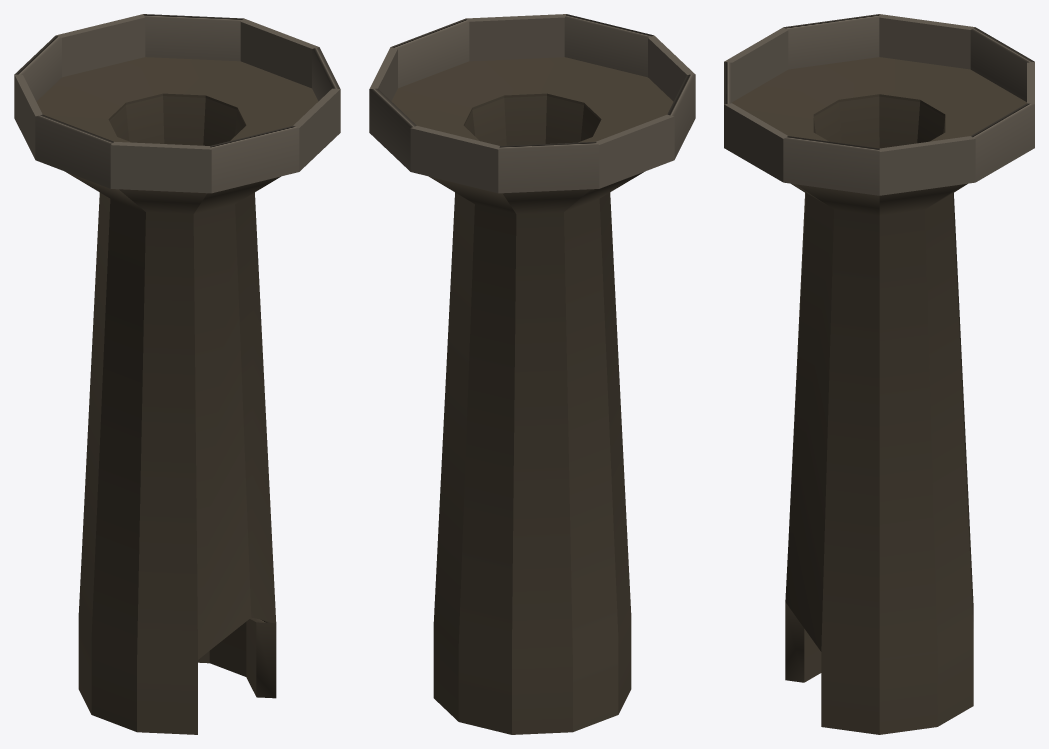
Rendered from model-lightHouse.fbx.
3 views of the same model, side by side, from view 1: azimuth 30°, elevation 25°; view 2: azimuth 150°, elevation 25°; view 3: azimuth 270°, elevation 25° (orthographic).
Visible parts, largest first — view 1: lightHouse; view 2: lightHouse; view 3: lightHouse.
Boxes of the visible parts, x1,y1,x2,y2 form: lightHouse: (14, 14, 340, 734); lightHouse: (369, 14, 695, 734); lightHouse: (724, 14, 1034, 734).
Size of the model in its own units: 94.47 by 195 by 89.85.
